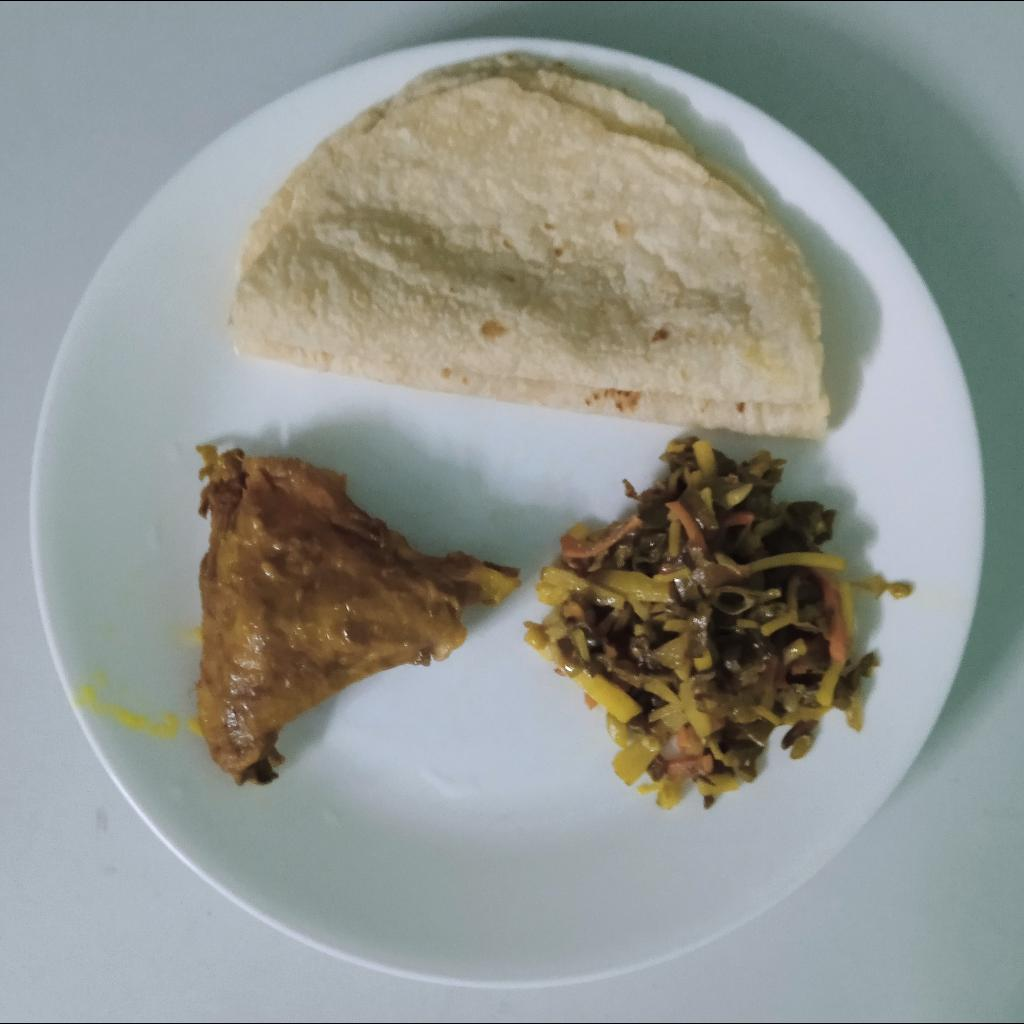chicken: (195, 445, 523, 793)
ruti: (227, 56, 832, 441)
vegetable: (525, 434, 894, 808)
